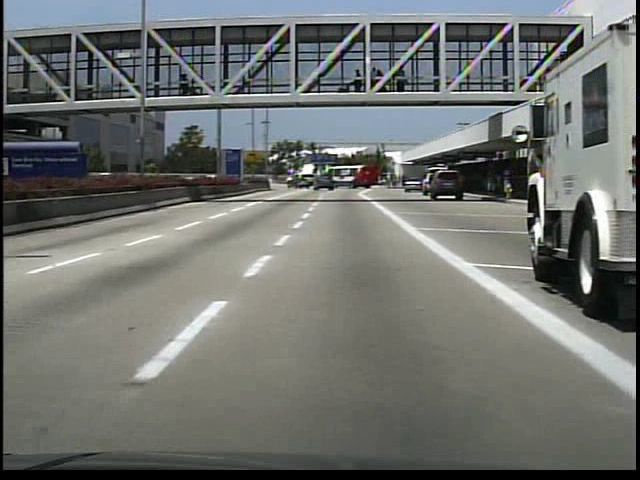person: (177, 71, 194, 98), (485, 171, 498, 199)
